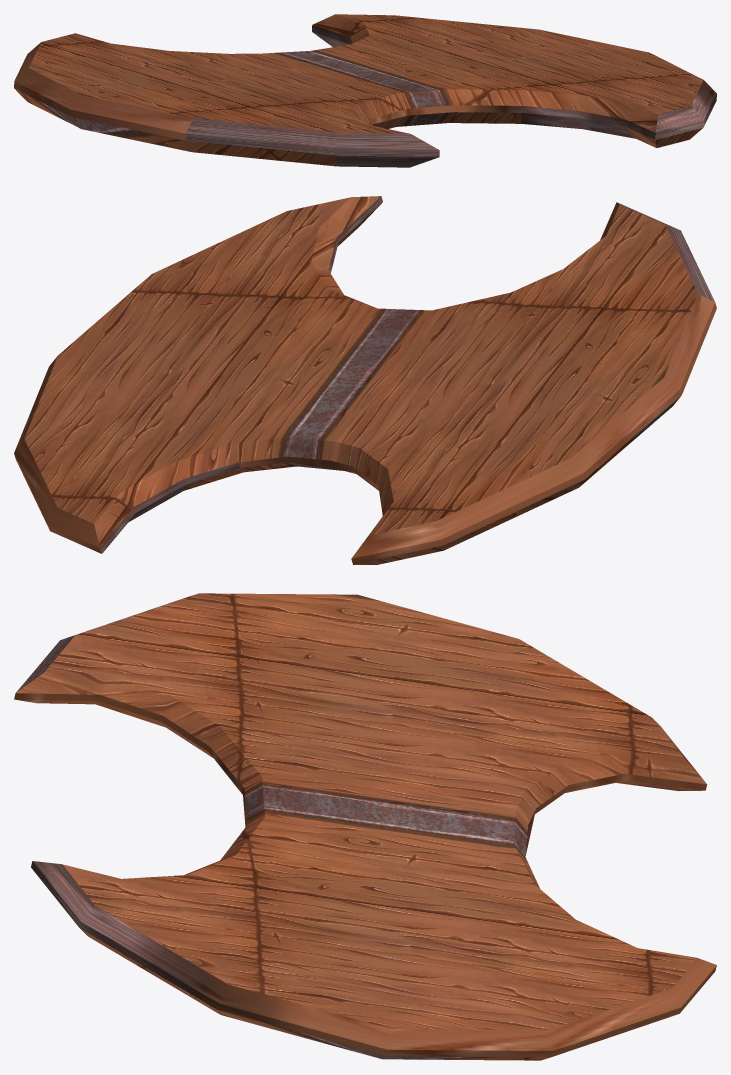
Rendered from spinner test 1.fbx.
3 renders of one model, top to bottom at view 1: azimuth 30°, elevation 25°; view 2: azimuth 150°, elevation 25°; view 3: azimuth 270°, elevation 25°, orthographic. The views are drawn at different scales.
Parts seen in each view (by area): view 1: pCylinder13; view 2: pCylinder13; view 3: pCylinder13.
Boxes of the visible parts, box(x1,y1,x2,y2) form: pCylinder13: box(14, 14, 716, 167); pCylinder13: box(14, 196, 716, 564); pCylinder13: box(14, 593, 716, 1060).
Bounding box in the file's own units: 40.77 × 12.23 × 37.11.
